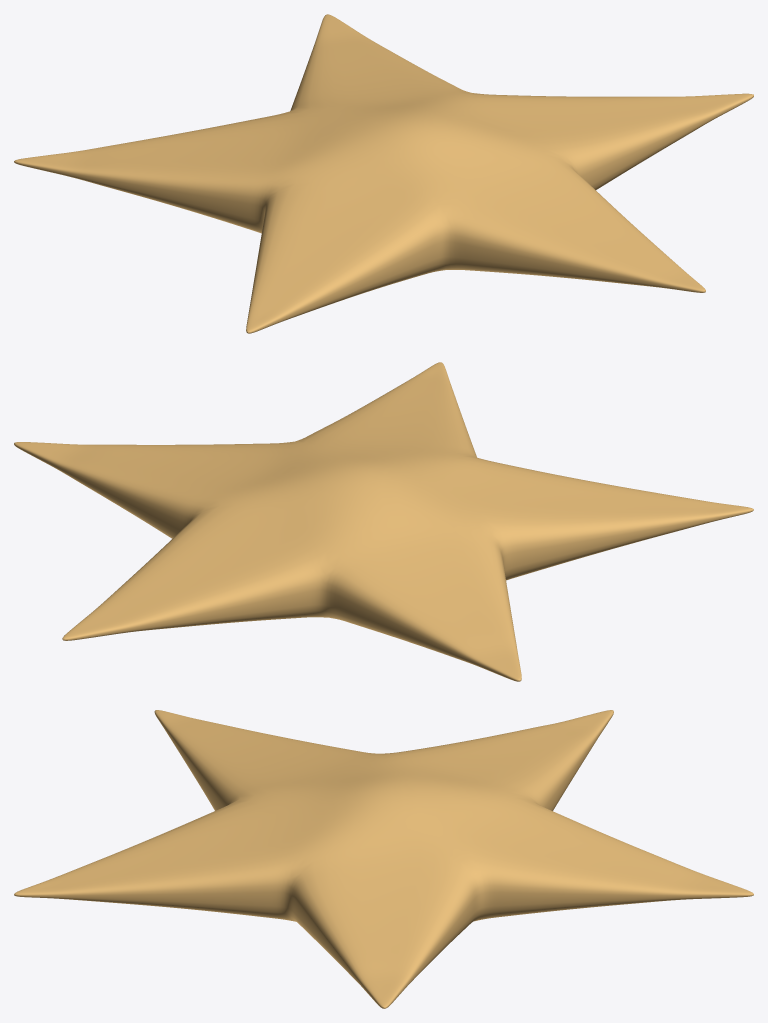
Rendered from star.glb.
3 renders of one model, top to bottom at view 1: azimuth 30°, elevation 25°; view 2: azimuth 150°, elevation 25°; view 3: azimuth 270°, elevation 25°, orthographic. The views are drawn at different scales.
Visible parts, largest first — view 1: Retopo_Star.001_0; view 2: Retopo_Star.001_0; view 3: Retopo_Star.001_0.
Boxes of the visible parts, x1=… form: Retopo_Star.001_0: x1=14, y1=14, x2=753, y2=333; Retopo_Star.001_0: x1=14, y1=362, x2=753, y2=681; Retopo_Star.001_0: x1=14, y1=710, x2=753, y2=1008.
Bounding box in the file's own units: 1.77 × 0.2929 × 1.87.
